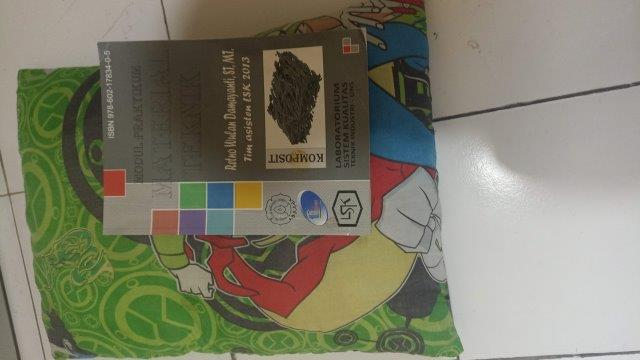kertas: (99, 24, 372, 235)
